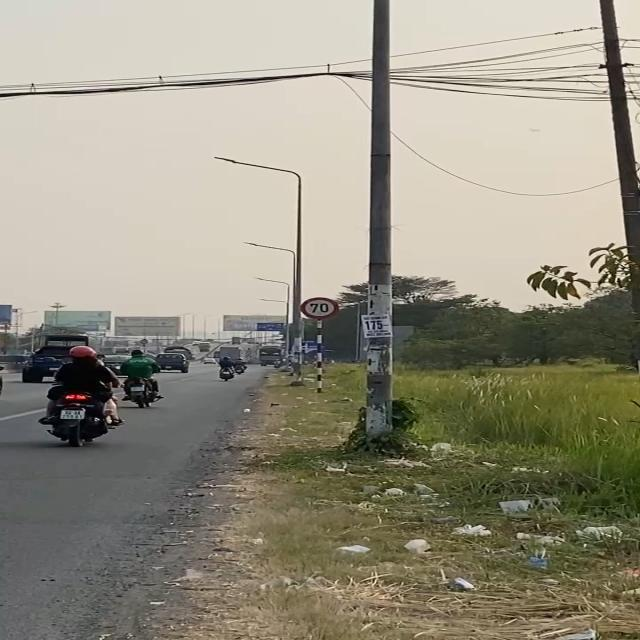127-toc-do-toi-da-70: (299, 296, 341, 320)
